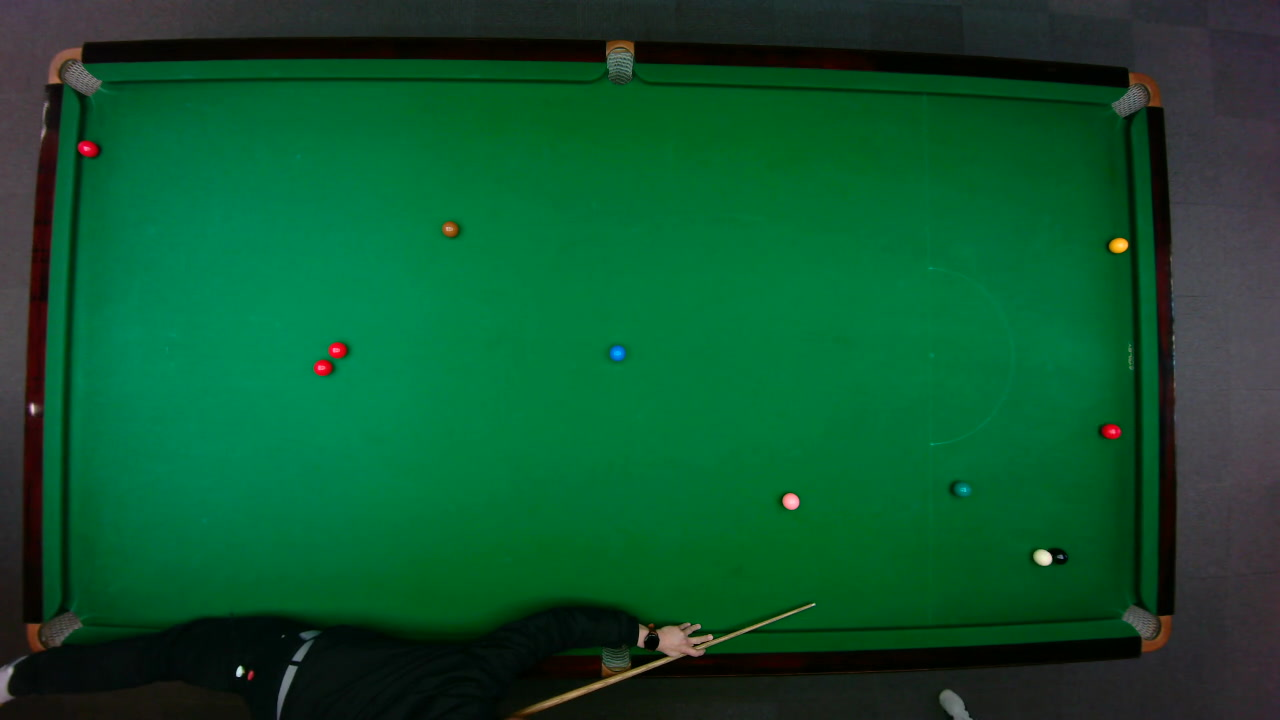bag: (45, 46, 102, 96), (1119, 602, 1171, 652), (24, 610, 84, 653), (1108, 71, 1161, 117), (601, 625, 633, 682), (605, 38, 633, 85)
black: (1050, 547, 1068, 564)
blue: (607, 343, 626, 361)
brown: (440, 220, 459, 237)
cue: (505, 597, 825, 719)
green: (951, 480, 972, 497)
pink: (779, 490, 800, 510)
red: (75, 139, 99, 158), (311, 358, 333, 376), (1099, 422, 1122, 439), (326, 340, 347, 358)
white: (1030, 547, 1052, 566)
yellow: (1107, 236, 1129, 253)
zone: (927, 266, 1013, 445)
